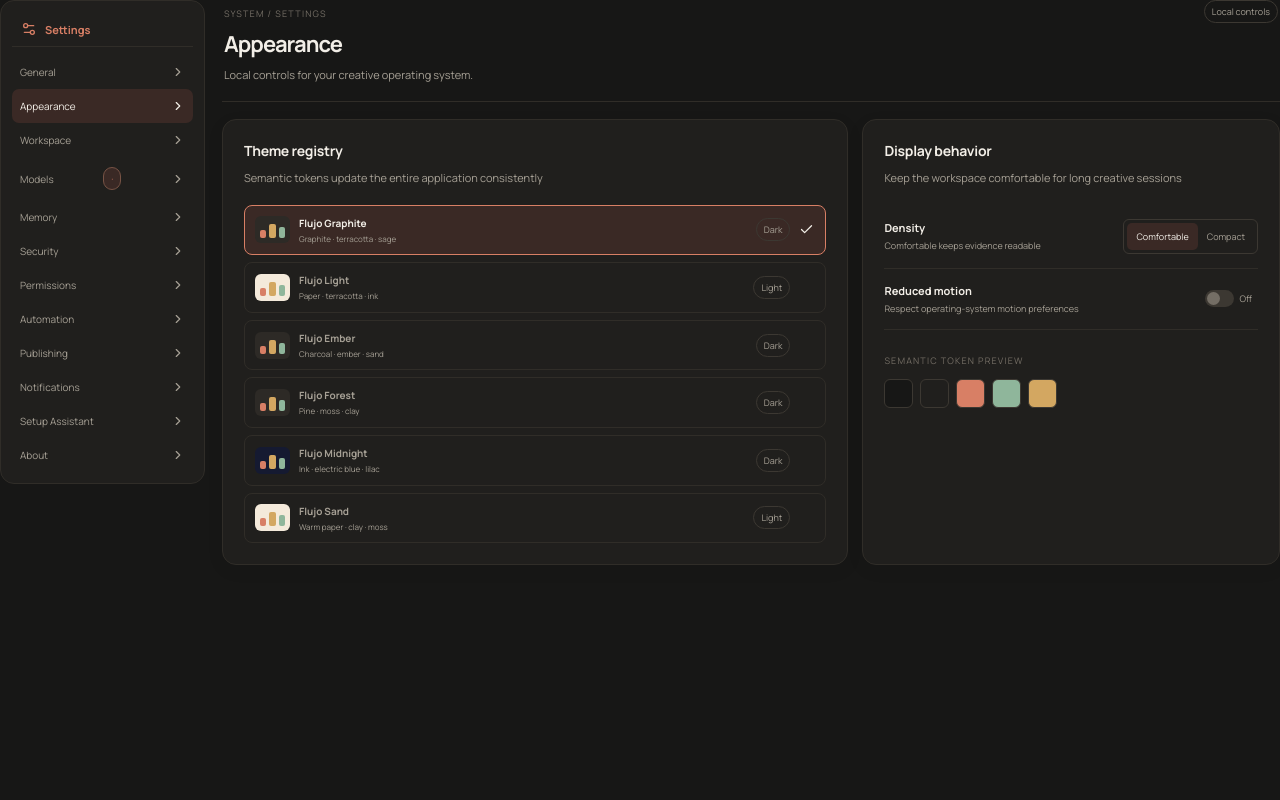
Scenario: SettingsHub Models section reads the live gateway › renders usage from the local ledger instead of fixture numbers
This screenshot has width=1280, height=800.
What coordinates should you click on to do the following:
click the button "Models ·"
I would click on:
 (102, 178)
Its box is left=12, top=157, right=193, bottom=200.
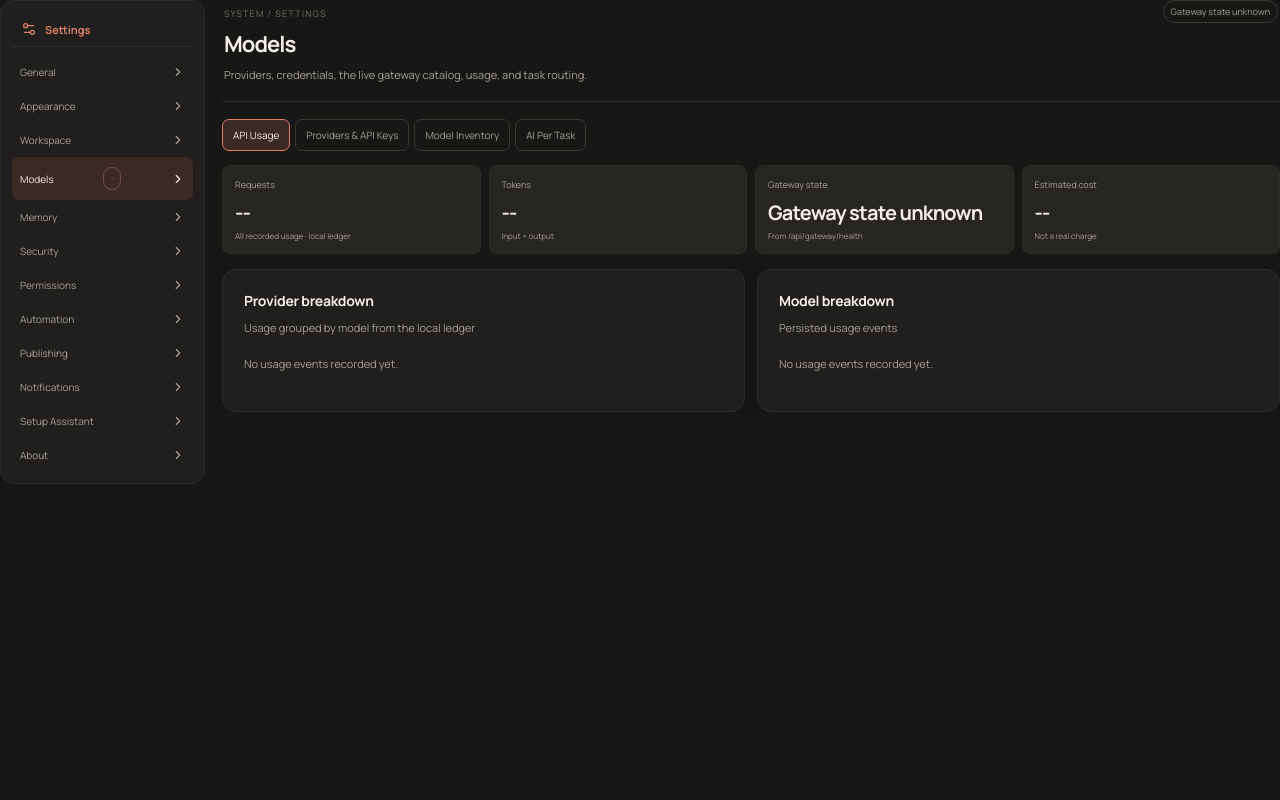
What coordinates should you click on to do the following:
click the button "API Usage"
I would click on:
 (256, 135)
Its box is left=222, top=119, right=290, bottom=151.
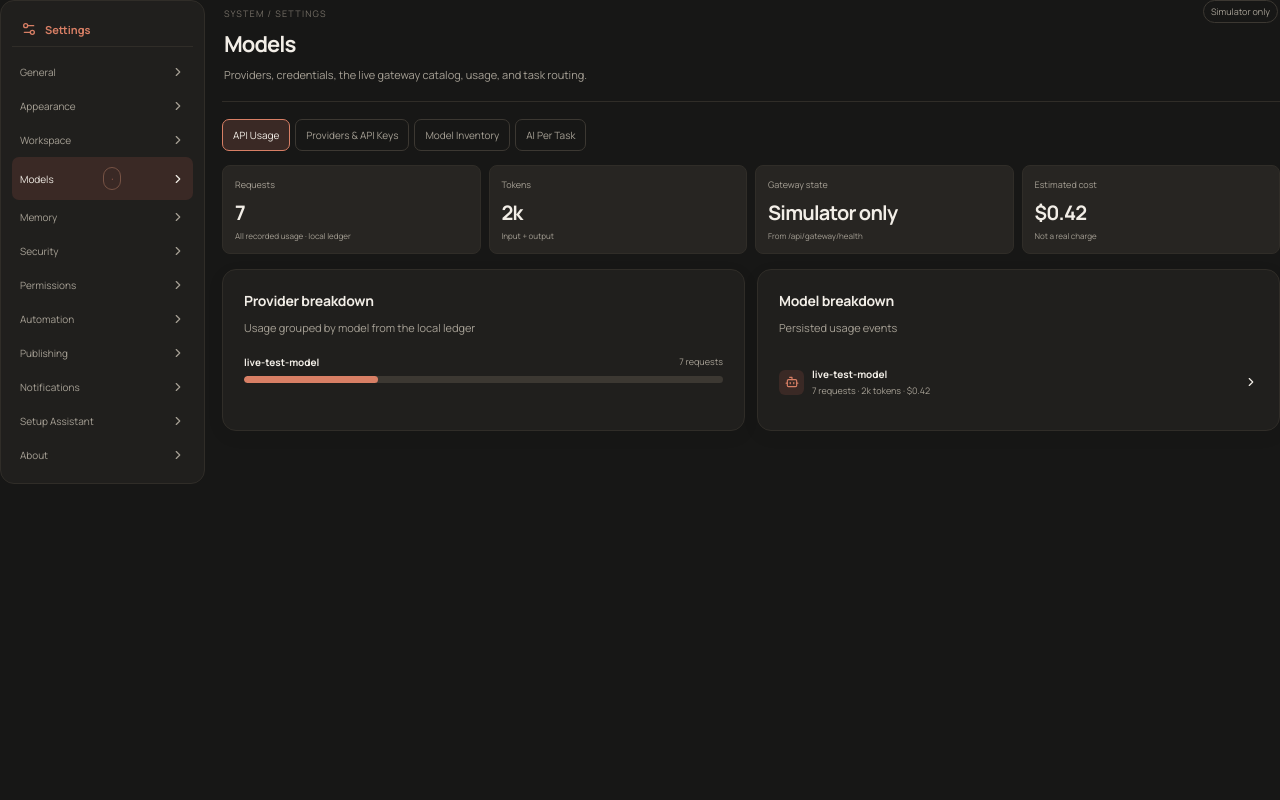
Now the text "live-test-model" below "Provider breakdown" is shown, box left=244, top=355, right=319, bottom=369
